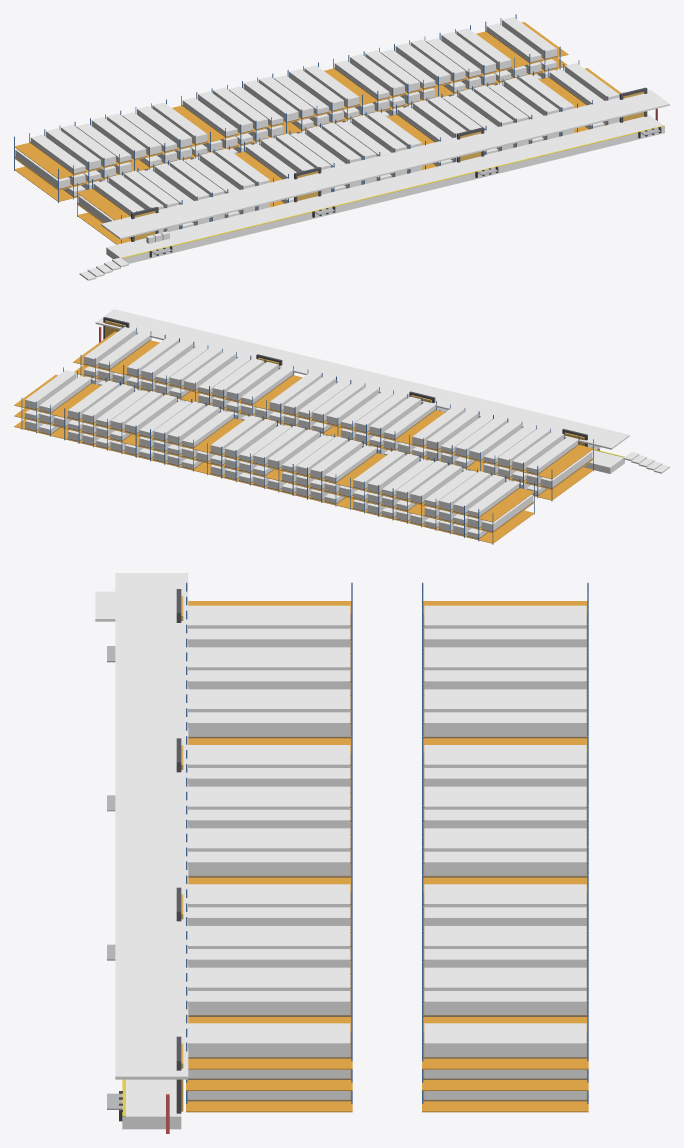
File: site_proposed_WHE5.opt.glb
The picture shows the model from 3 angles, top to bottom: view 1: azimuth 30°, elevation 25°; view 2: azimuth 150°, elevation 25°; view 3: azimuth 270°, elevation 25°; orthographic projection. The views are drawn at different scales.
Visible parts, largest first — view 1: WHE-5_dock, WHE-5_dcan, WHE-5_bm170_2, WHE-5_bm150_2, WHE-5_bm170_1, WHE-5_edge, WHE-5_pl170_2_2, WHE-5_pl170_32_2, WHE-5_pl170_8_2, WHE-5_pl170_12_2, WHE-5_pl170_15_2, WHE-5_pl170_18_2 (+55 smaller); view 2: WHE-5_dcan, WHE-5_bm150_2, WHE-5_bm170_2, WHE-5_bm170_0, WHE-5_bm170_1, WHE-5_bm150_1, WHE-5_pl170_15_2, WHE-5_pl150_8_2, WHE-5_pl170_8_2, WHE-5_pl150_15_2, WHE-5_pl150_22_2, WHE-5_pl170_22_2 (+56 smaller); view 3: WHE-5_dcan, WHE-5_bm170_2, WHE-5_bm150_2, WHE-5_pl150_9_2, WHE-5_pl170_9_2, WHE-5_pl170_19_2, WHE-5_pl170_32_2, WHE-5_pl150_19_2, WHE-5_pl150_32_2, WHE-5_pl150_29_2, WHE-5_pl170_29_2, WHE-5_pl170_3_2 (+58 smaller).
Part boxes in pixels (<box>): WHE-5_dock: <box>106,115,664,263</box>; WHE-5_dcan: <box>101,90,669,239</box>; WHE-5_bm170_2: <box>14,22,568,179</box>; WHE-5_bm150_2: <box>77,68,621,220</box>; WHE-5_bm170_1: <box>14,57,567,190</box>; WHE-5_edge: <box>121,125,664,258</box>; WHE-5_pl170_2_2: <box>46,128,100,169</box>; WHE-5_pl170_32_2: <box>502,17,556,58</box>; WHE-5_pl170_8_2: <box>137,106,191,147</box>; WHE-5_pl170_12_2: <box>198,91,252,132</box>; WHE-5_pl170_15_2: <box>243,80,298,121</box>; WHE-5_pl170_18_2: <box>289,69,343,110</box>; WHE-5_dcan: <box>95,309,629,449</box>; WHE-5_bm150_2: <box>73,331,593,479</box>; WHE-5_bm170_2: <box>14,374,534,522</box>; WHE-5_bm170_0: <box>14,419,534,543</box>; WHE-5_bm170_1: <box>14,408,534,532</box>; WHE-5_bm150_1: <box>74,365,593,489</box>; WHE-5_pl170_15_2: <box>267,429,319,468</box>; WHE-5_pl150_8_2: <box>426,410,478,449</box>; WHE-5_pl170_8_2: <box>367,453,419,492</box>; WHE-5_pl150_15_2: <box>326,386,378,424</box>; WHE-5_pl150_22_2: <box>226,362,278,400</box>; WHE-5_pl170_22_2: <box>167,405,219,443</box>; WHE-5_dcan: <box>115,573,188,1079</box>; WHE-5_bm170_2: <box>422,601,588,1069</box>; WHE-5_bm150_2: <box>188,601,352,1069</box>; WHE-5_pl150_9_2: <box>188,712,350,736</box>; WHE-5_pl170_9_2: <box>424,712,586,736</box>; WHE-5_pl170_19_2: <box>424,851,586,875</box>; WHE-5_pl170_32_2: <box>424,1032,586,1056</box>; WHE-5_pl150_19_2: <box>188,851,350,875</box>; WHE-5_pl150_32_2: <box>188,1032,350,1056</box>; WHE-5_pl150_29_2: <box>188,991,350,1014</box>; WHE-5_pl170_29_2: <box>424,991,586,1014</box>; WHE-5_pl170_3_2: <box>424,628,586,647</box>.
Bounding box in the file's own units: 108 × 6.15 × 41.9.
